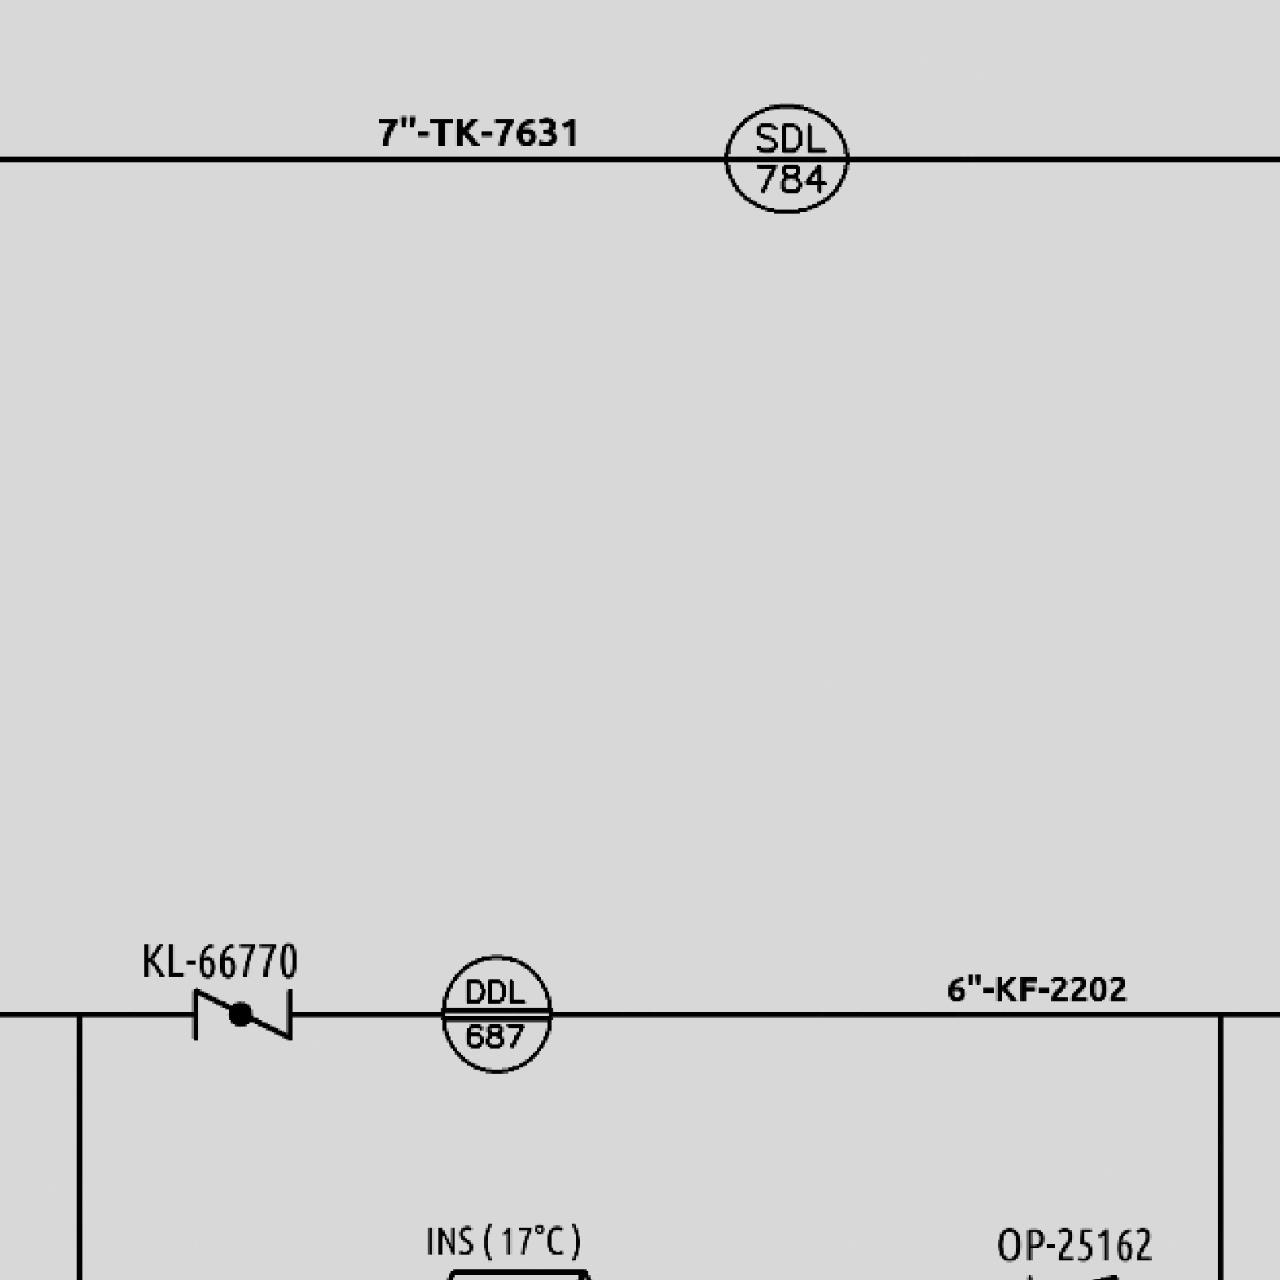Control-Panel: (433, 949, 559, 1077)
